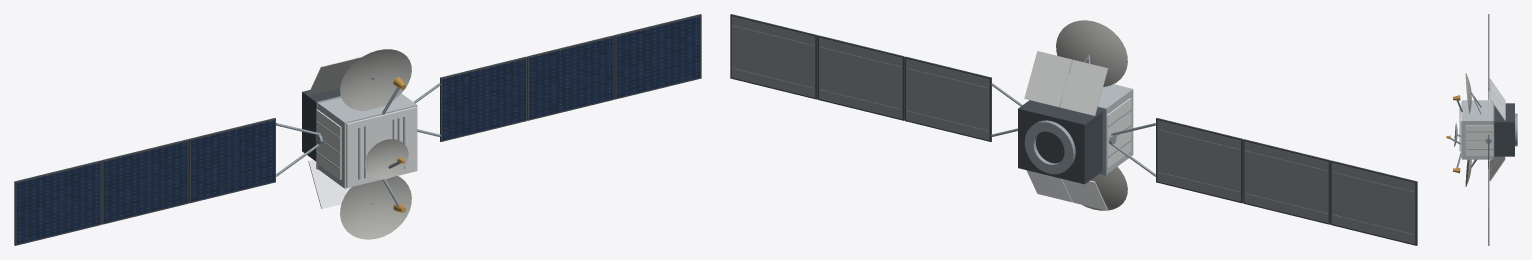
The model's file is hughes-601-galaxy.glb.
3 views of the same model, side by side, from view 1: azimuth 30°, elevation 25°; view 2: azimuth 150°, elevation 25°; view 3: azimuth 270°, elevation 25° (orthographic). The views are drawn at different scales.
Visible parts, largest first — view 1: Solar cell panel (×6), Communications reflector (×2), Solar panel frame (×6), Earth-facing deck, Payload module, Deployed radiator leaf (×2), Deck-mounted reflector, Radiator face, Service module; view 2: Rear array substrate (×6), Deployed radiator leaf (×4), Service module, Solar panel frame (×6), Communications reflector (×2), Launch adapter ring, Radiator face, Payload module, Module interface; view 3: Service module, Payload module, Radiator face, Deployed radiator leaf (×4), Communications reflector (×2), Solar panel frame (×2), Module interface, Earth-facing deck, Launch adapter ring, Deck-mounted reflector, Deck heat pipe, Radiator seam.
Part boxes in pixels (<box>): Solar cell panel (×6): <box>16,16,700,244</box>; Communications reflector (×2): <box>340,49,411,239</box>; Solar panel frame (×6): <box>14,14,701,245</box>; Earth-facing deck: <box>346,106,416,187</box>; Payload module: <box>318,93,417,188</box>; Deployed radiator leaf (×2): <box>308,57,356,208</box>; Deck-mounted reflector: <box>364,139,408,179</box>; Radiator face: <box>316,109,341,179</box>; Service module: <box>302,88,340,161</box>; Rear array substrate (×6): <box>731,16,1415,244</box>; Deployed radiator leaf (×4): <box>1024,51,1108,210</box>; Service module: <box>1018,100,1102,184</box>; Solar panel frame (×6): <box>730,14,1417,245</box>; Communications reflector (×2): <box>1056,20,1127,210</box>; Launch adapter ring: <box>1024,120,1075,174</box>; Radiator face: <box>1106,98,1131,168</box>; Payload module: <box>1063,74,1133,173</box>; Module interface: <box>1061,98,1106,175</box>; Service module: <box>1494,103,1514,156</box>; Payload module: <box>1462,100,1492,159</box>; Radiator face: <box>1465,125,1493,155</box>; Deployed radiator leaf (×4): <box>1489,78,1505,181</box>; Communications reflector (×2): <box>1465,73,1471,186</box>; Solar panel frame (×2): <box>1488,63,1489,245</box>; Module interface: <box>1493,104,1494,159</box>; Earth-facing deck: <box>1460,101,1461,158</box>; Launch adapter ring: <box>1515,113,1517,146</box>; Deck-mounted reflector: <box>1454,122,1457,146</box>; Deck heat pipe: <box>1459,121,1460,150</box>; Radiator seam: <box>1466,131,1492,132</box>.
Bounding box in the file's own units: 26.47 × 6.93 × 4.11.
8 materials, 1 textured.
